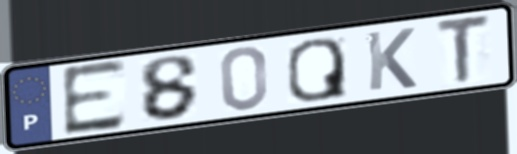0: (217, 44, 270, 114)
8: (136, 54, 200, 123)
E: (58, 56, 128, 139)
K: (363, 25, 420, 94)
Q: (285, 35, 350, 104)
T: (434, 12, 493, 88)
